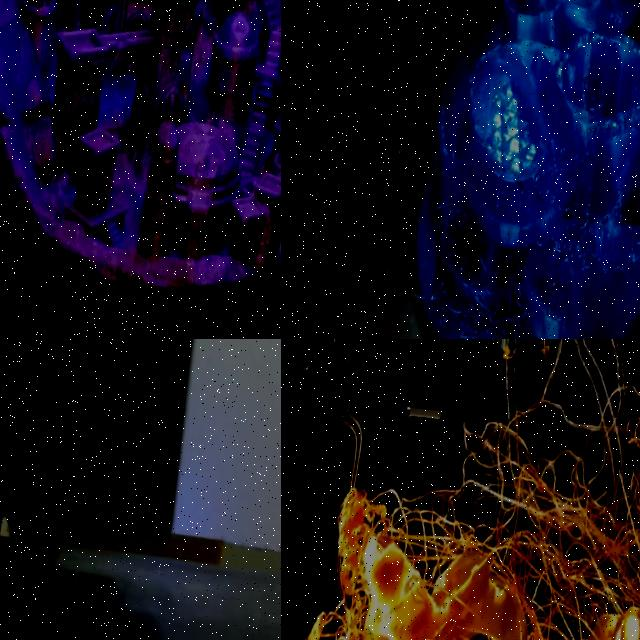spaghetti: (281, 339, 640, 640), (406, 53, 640, 339), (348, 130, 409, 198), (0, 519, 57, 580)
